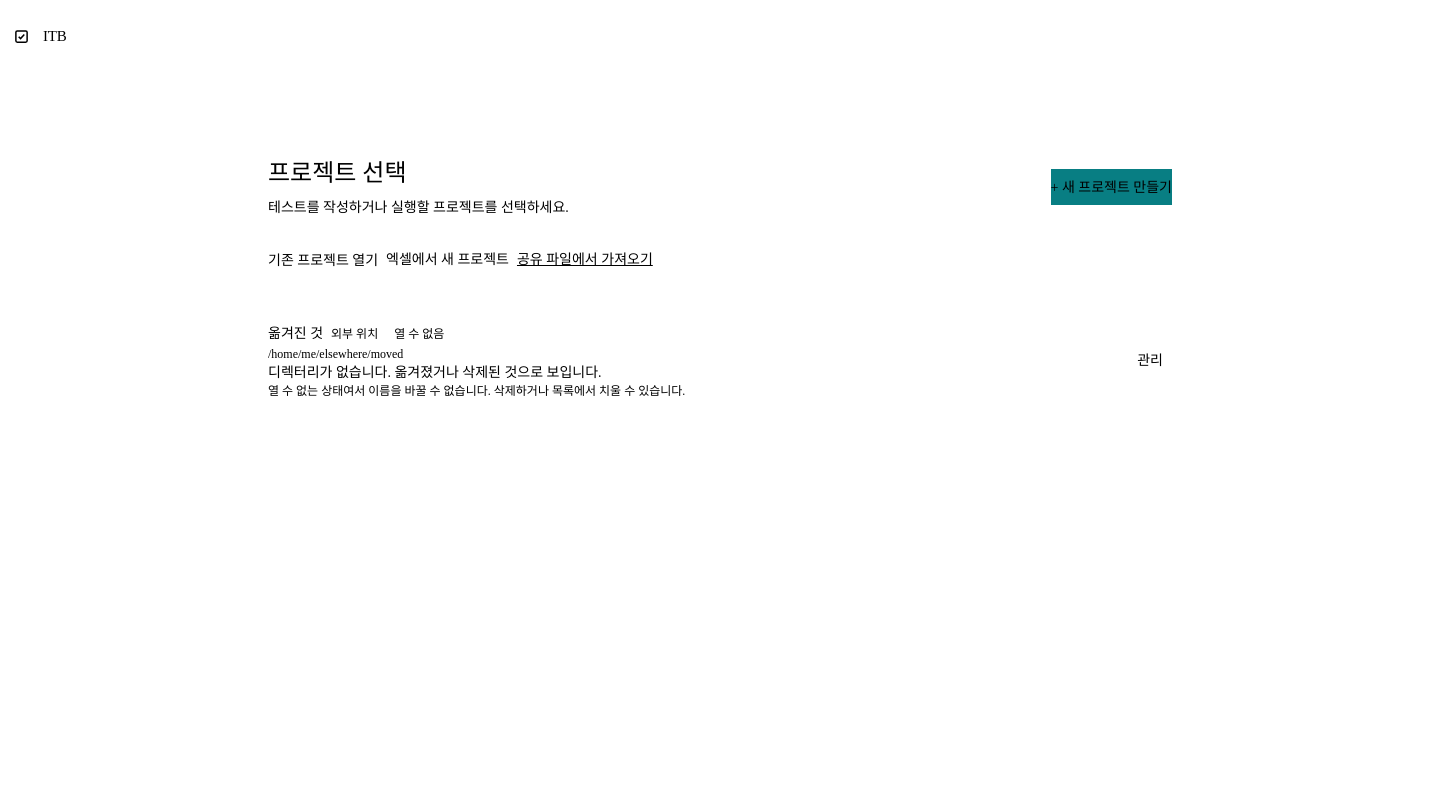
Scenario: 줄 상태 × 조작 (data-model §3) › 열 수 없는 줄에도 삭제가 있다 (FR-418 · SC-622 · 사용자 지적 2026-09-10)
This screenshot has width=1440, height=810.
Click the button "관리" at (1150, 361), box left=1128, top=343, right=1172, bottom=379
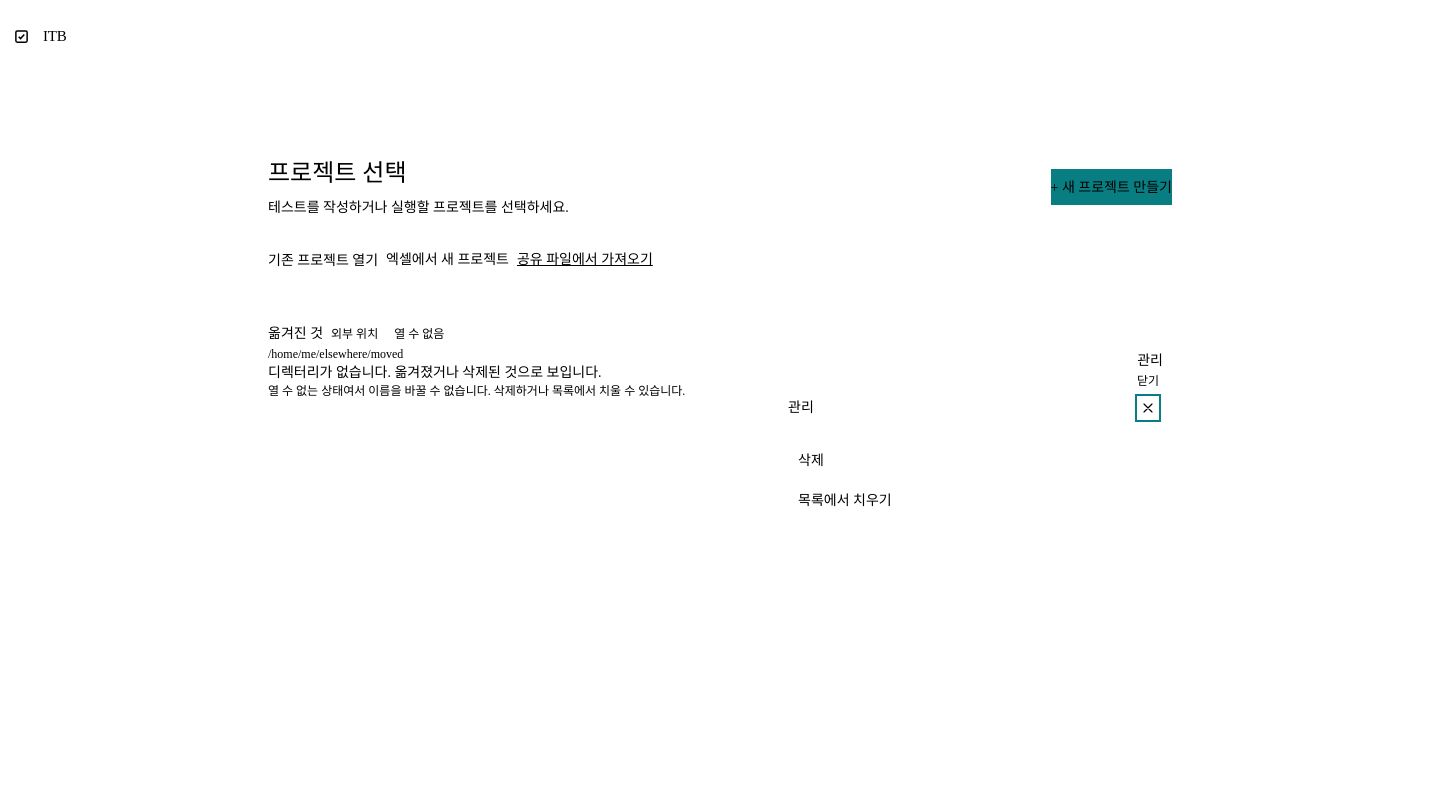
Check: the text "옮겨진 것" is shown, box left=268, top=327, right=323, bottom=341
Check: the button "삭제" is shown, box left=788, top=446, right=1156, bottom=474
Check: the button "목록에서 치우기" is shown, box left=788, top=486, right=1156, bottom=514
